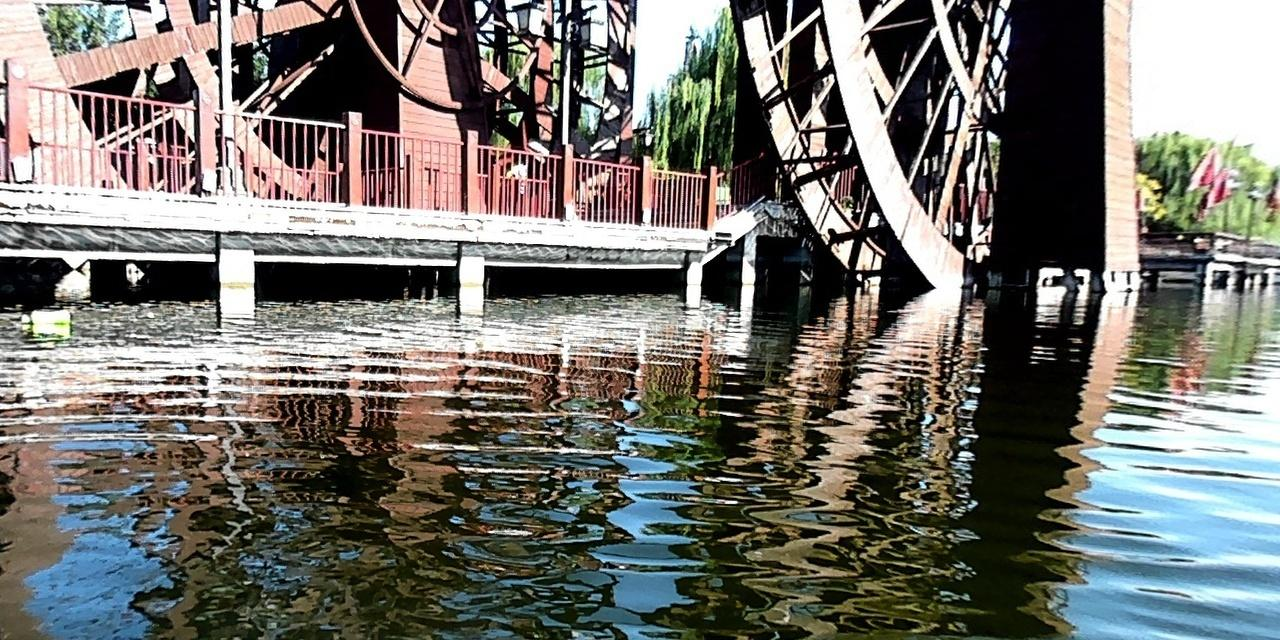bottle: (17, 307, 70, 326)
